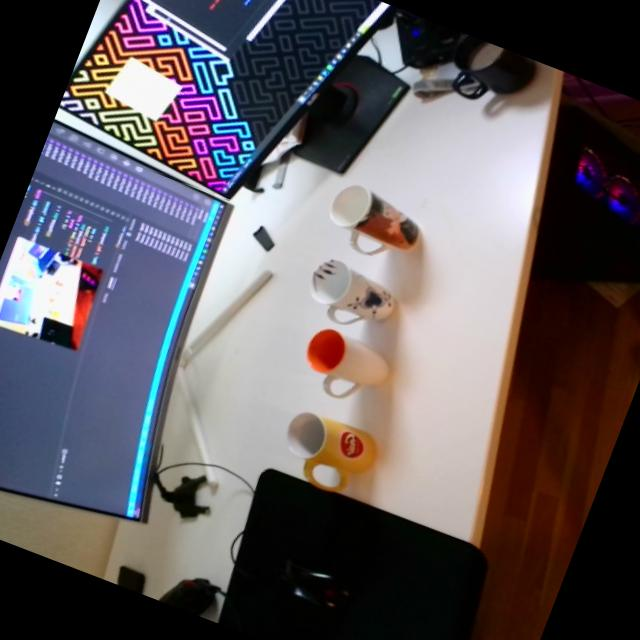Cocio Cup: (271, 404, 385, 505)
Cup: (436, 30, 538, 117)
Halloween cup: (317, 176, 429, 274)
Hand painted cup: (295, 252, 406, 346)
White Cup: (294, 324, 398, 416)
